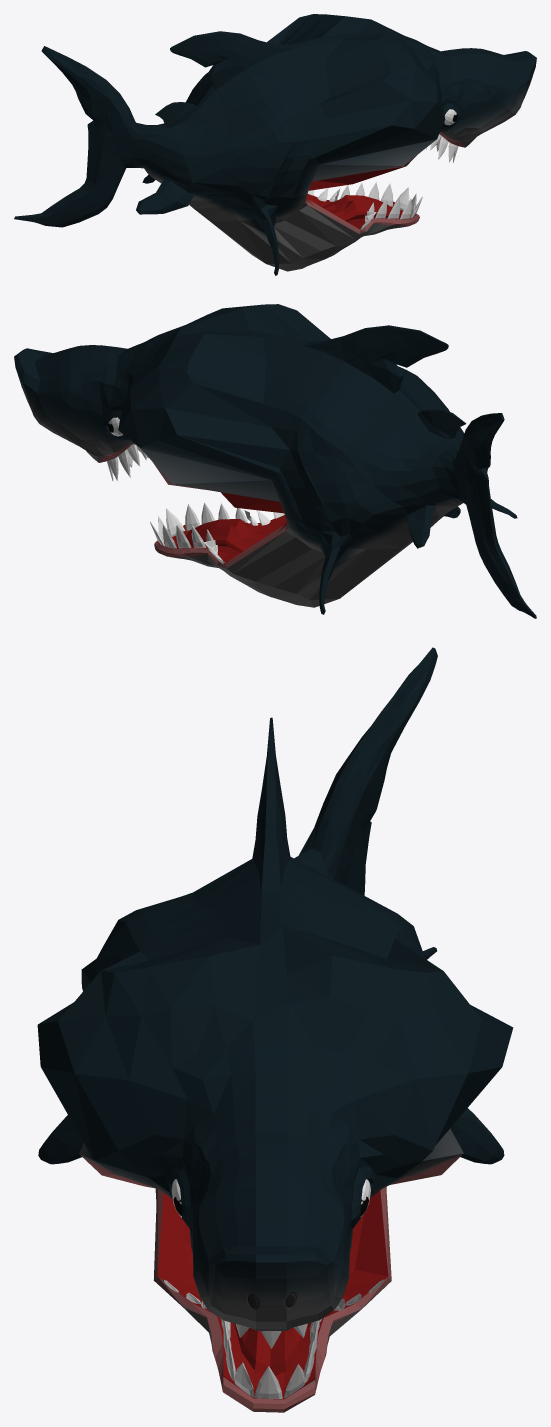
Rendered from хрень.glb.
3 views of the same model, one above another, from view 1: azimuth 30°, elevation 25°; view 2: azimuth 150°, elevation 25°; view 3: azimuth 270°, elevation 25° (orthographic). The views are drawn at different scales.
Size of the model in its own units: 2.5 by 1.27 by 1.08.
Materials: 1 (1 with a texture image).
